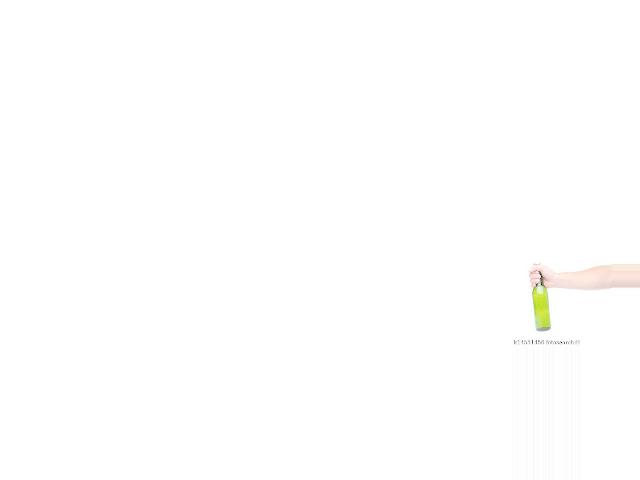beer: (532, 263, 551, 331)
